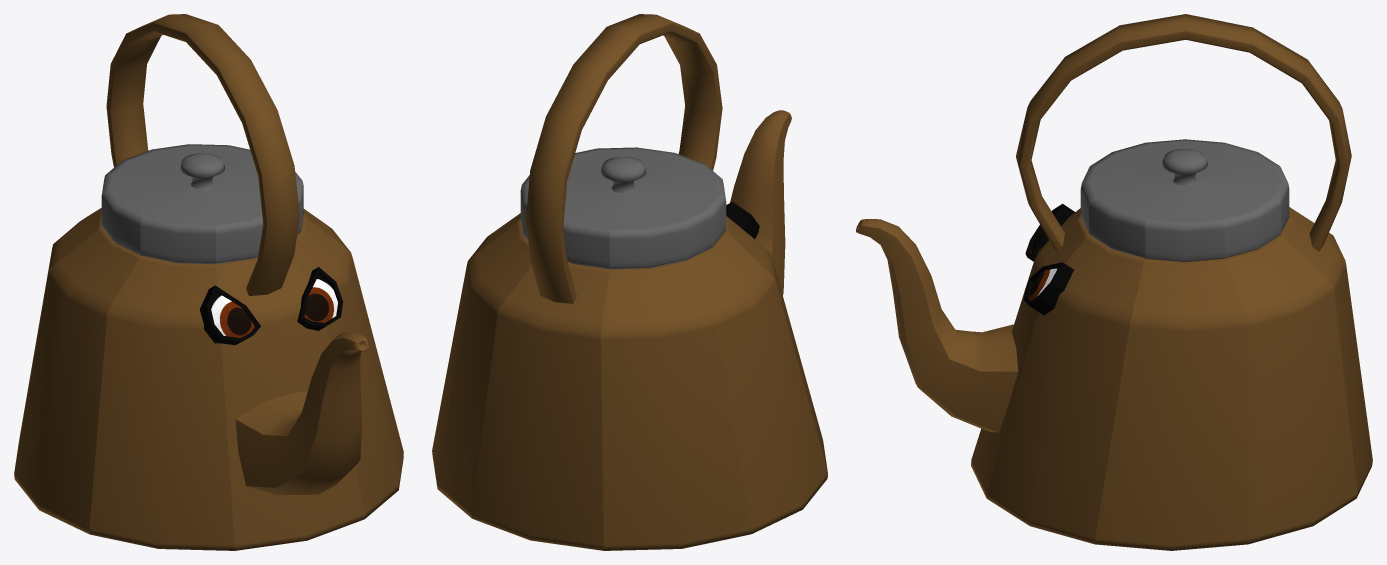
Rendered from GroundMelee.fbx.
The picture shows the model from 3 angles, left to right: view 1: azimuth 30°, elevation 25°; view 2: azimuth 150°, elevation 25°; view 3: azimuth 270°, elevation 25°; orthographic projection. The views are drawn at different scales.
Parts seen in each view (by area): view 1: Cylinder.002, Cylinder.003, Torus, Torus.001, Eye Right, Eye Right.001; view 2: Cylinder.002, Cylinder.003, Torus, Torus.001, Eye Right; view 3: Cylinder.002, Cylinder.003, Torus.001, Torus, Eye Right.001, Eye Right.
Boxes of the visible parts, x1,y1,x2,y2 form: Cylinder.002: [14, 208, 403, 550]; Cylinder.003: [101, 144, 303, 263]; Torus: [106, 14, 299, 295]; Torus.001: [235, 332, 369, 494]; Eye Right: [199, 285, 260, 345]; Eye Right.001: [297, 267, 343, 330]; Cylinder.002: [432, 213, 827, 550]; Cylinder.003: [520, 147, 726, 269]; Torus: [526, 14, 722, 303]; Torus.001: [730, 110, 791, 295]; Eye Right: [726, 202, 759, 238]; Cylinder.002: [971, 207, 1372, 550]; Cylinder.003: [1080, 139, 1289, 261]; Torus.001: [856, 219, 1018, 432]; Torus: [1016, 14, 1351, 251]; Eye Right.001: [1024, 262, 1073, 315]; Eye Right: [1025, 203, 1074, 261].
Bounding box in the file's own units: 310 × 381 × 398.
